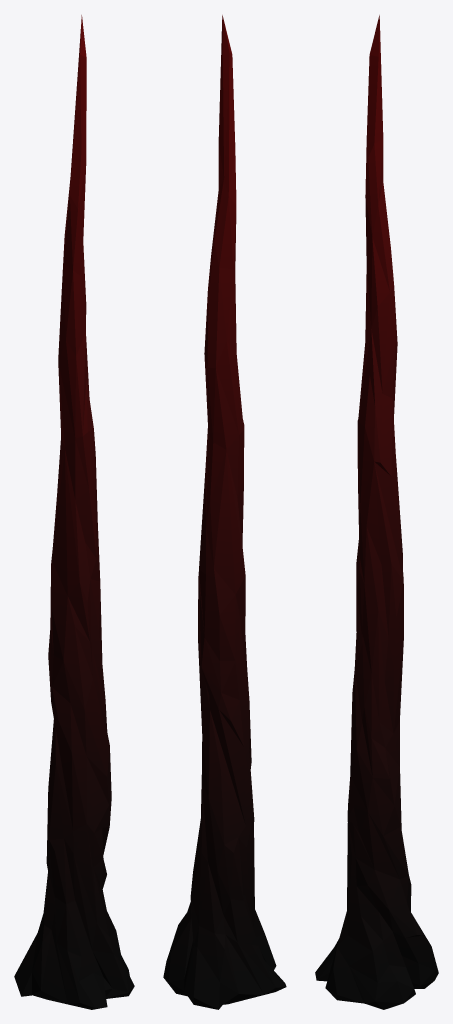
File: SM_Env_Tree_Large_02_Collision.fbx
The picture shows the model from 3 angles, left to right: view 1: azimuth 90°, elevation 25°; view 2: azimuth 150°, elevation 25°; view 3: azimuth 330°, elevation 25°; orthographic projection.
Visible parts, largest first — view 1: SM_Env_Tree_Large_02_Collision; view 2: SM_Env_Tree_Large_02_Collision; view 3: SM_Env_Tree_Large_02_Collision.
Boxes of the visible parts, left/top/right/bottom form: SM_Env_Tree_Large_02_Collision: left=14, top=15, right=134, bottom=1009; SM_Env_Tree_Large_02_Collision: left=163, top=15, right=286, bottom=1009; SM_Env_Tree_Large_02_Collision: left=315, top=15, right=438, bottom=1009.
Bounding box in the file's own units: 480 × 4370 × 489.
